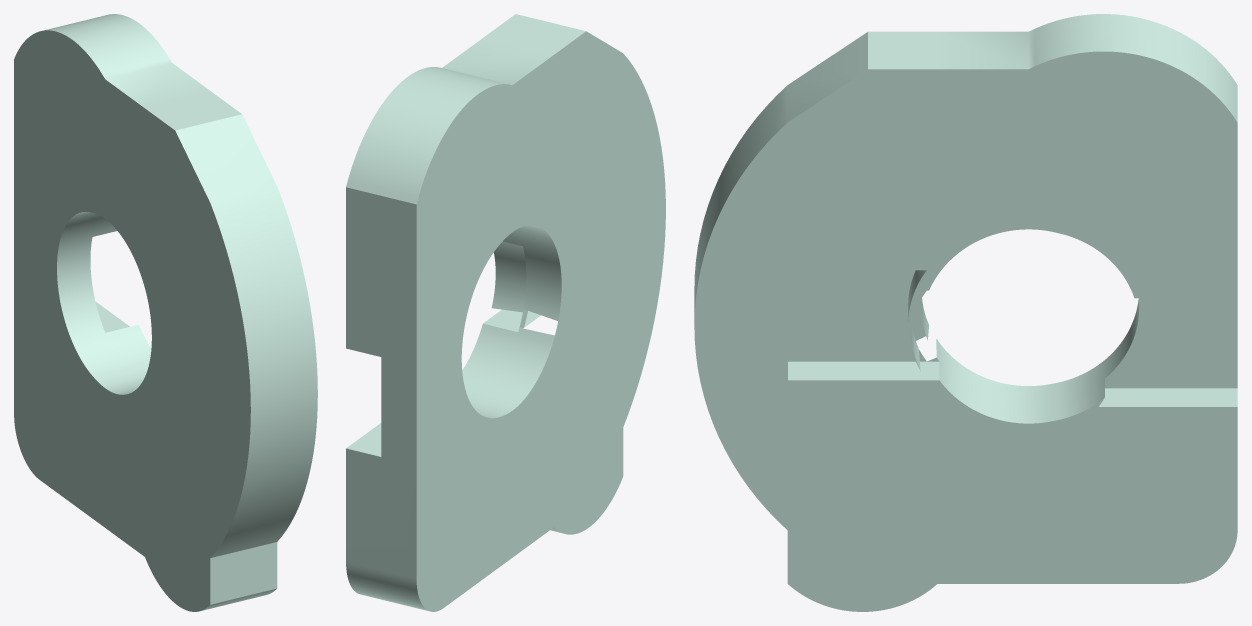
3 views of the same model, side by side, from view 1: azimuth 30°, elevation 25°; view 2: azimuth 150°, elevation 25°; view 3: azimuth 270°, elevation 25° (orthographic). The views are drawn at different scales.
Parts seen in each view (by area): view 1: Renderer Node; view 2: Renderer Node; view 3: Renderer Node.
Part boxes in pixels (x1,y1,x2,y2): Renderer Node: (14,14,317,611); Renderer Node: (346,14,665,611); Renderer Node: (694,14,1237,611).
Size of the model in its own units: 0.2344 by 1.63 by 1.43.
